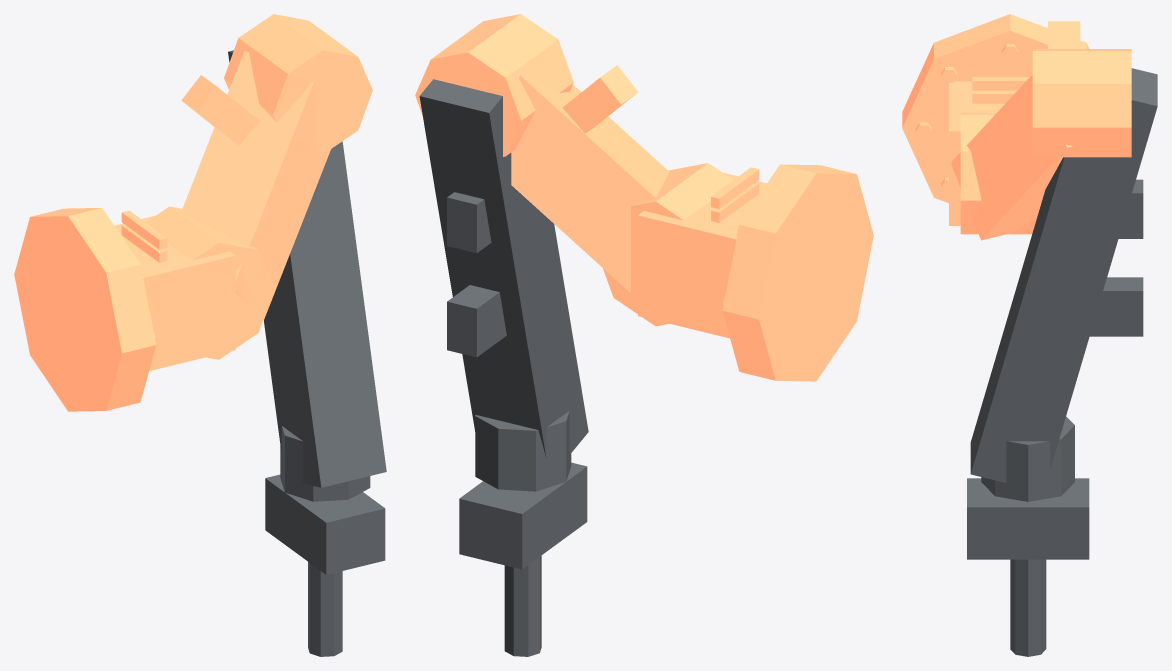
The model's file is leg_mantis.glb.
The picture shows the model from 3 angles, left to right: view 1: azimuth 30°, elevation 25°; view 2: azimuth 150°, elevation 25°; view 3: azimuth 270°, elevation 25°; orthographic projection. The views are drawn at different scales.
Visible parts, largest first — view 1: Mantis_Part3_TibiaSpikeFoot, Mantis_Part2_FemurArm, Mantis_Part1_CoxaGearbox; view 2: Mantis_Part3_TibiaSpikeFoot, Mantis_Part1_CoxaGearbox, Mantis_Part2_FemurArm; view 3: Mantis_Part3_TibiaSpikeFoot, Mantis_Part2_FemurArm, Mantis_Part1_CoxaGearbox.
Part boxes in pixels (box(x1,y1,x2,y2)): Mantis_Part3_TibiaSpikeFoot: box(228, 50, 386, 656); Mantis_Part2_FemurArm: box(146, 14, 372, 359); Mantis_Part1_CoxaGearbox: box(14, 208, 235, 411); Mantis_Part3_TibiaSpikeFoot: box(419, 79, 588, 656); Mantis_Part1_CoxaGearbox: box(638, 164, 873, 381); Mantis_Part2_FemurArm: box(415, 14, 733, 326); Mantis_Part3_TibiaSpikeFoot: box(967, 68, 1157, 656); Mantis_Part2_FemurArm: box(951, 21, 1131, 240); Mantis_Part1_CoxaGearbox: box(902, 14, 1089, 225).
Bounding box in the file's own units: 2.03 × 3.67 × 1.42.
